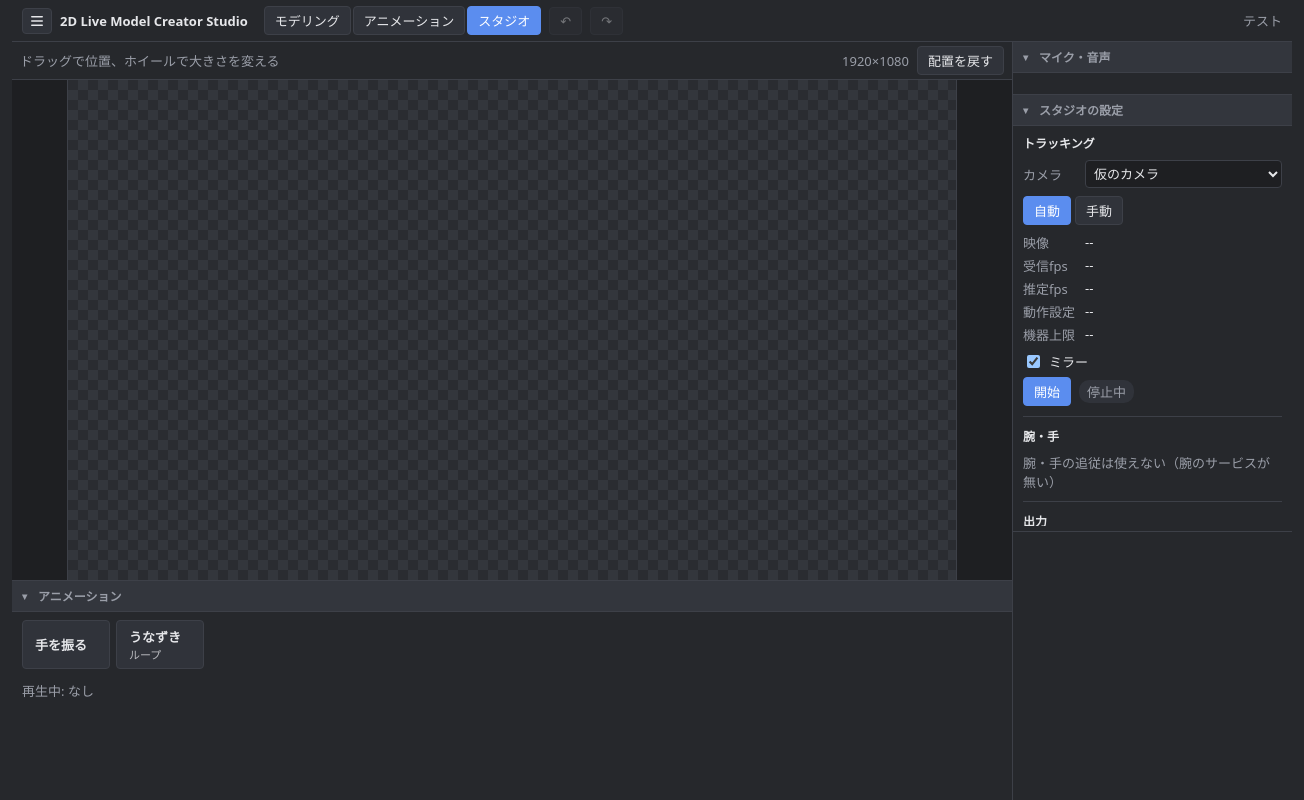
Test: スタジオの「アニメーション」パネル › 押すと再生し、もう一度押すとやめる（仮実装でも動く）
This screenshot has width=1304, height=800.
What coordinates should you click on to do the following:
click the button "手を振る"
I would click on:
 (66, 644)
Its box is [22, 620, 110, 669].
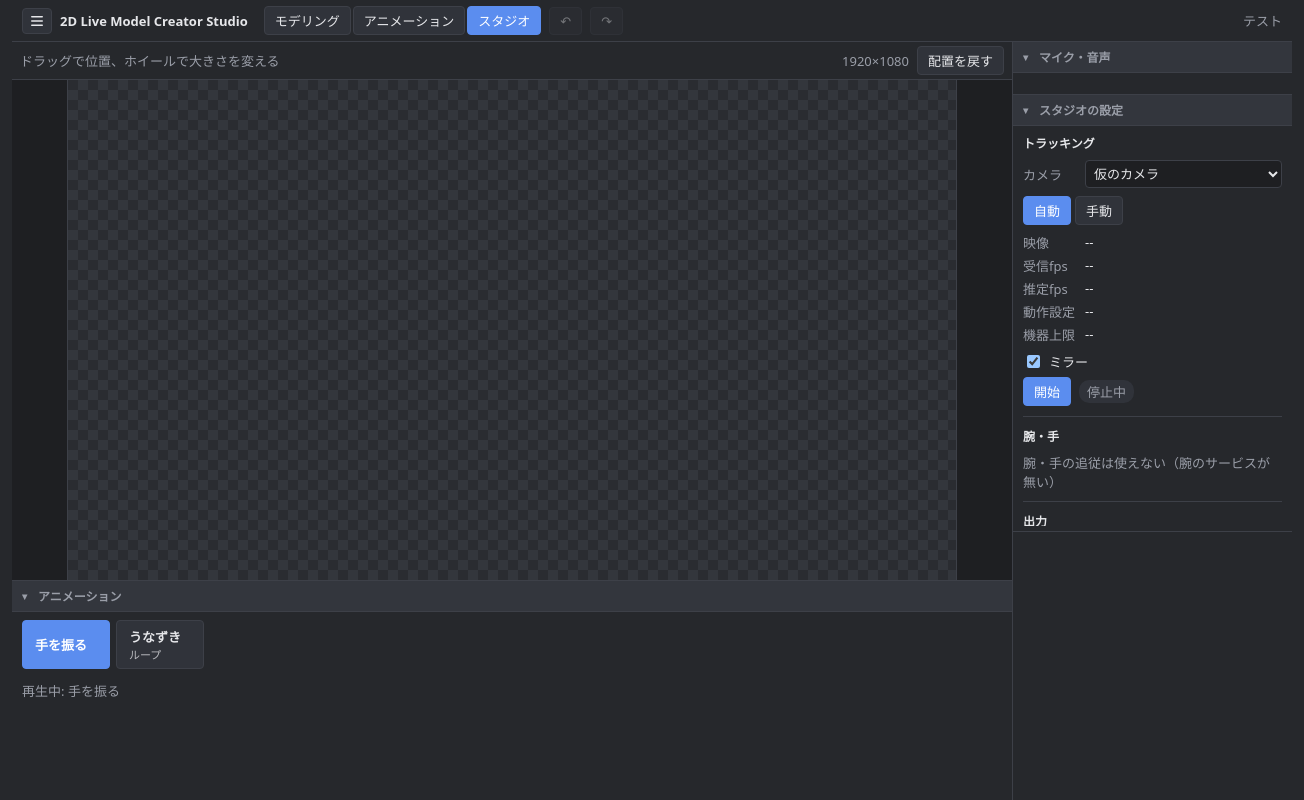
Expected: the text named "再生中のアニメーション" reads "再生中: 手を振る", [22, 682, 120, 700]
What coordinates should you click on to do the following:
click the button "手を振る"
I would click on:
 (66, 644)
Its box is [22, 620, 110, 669].
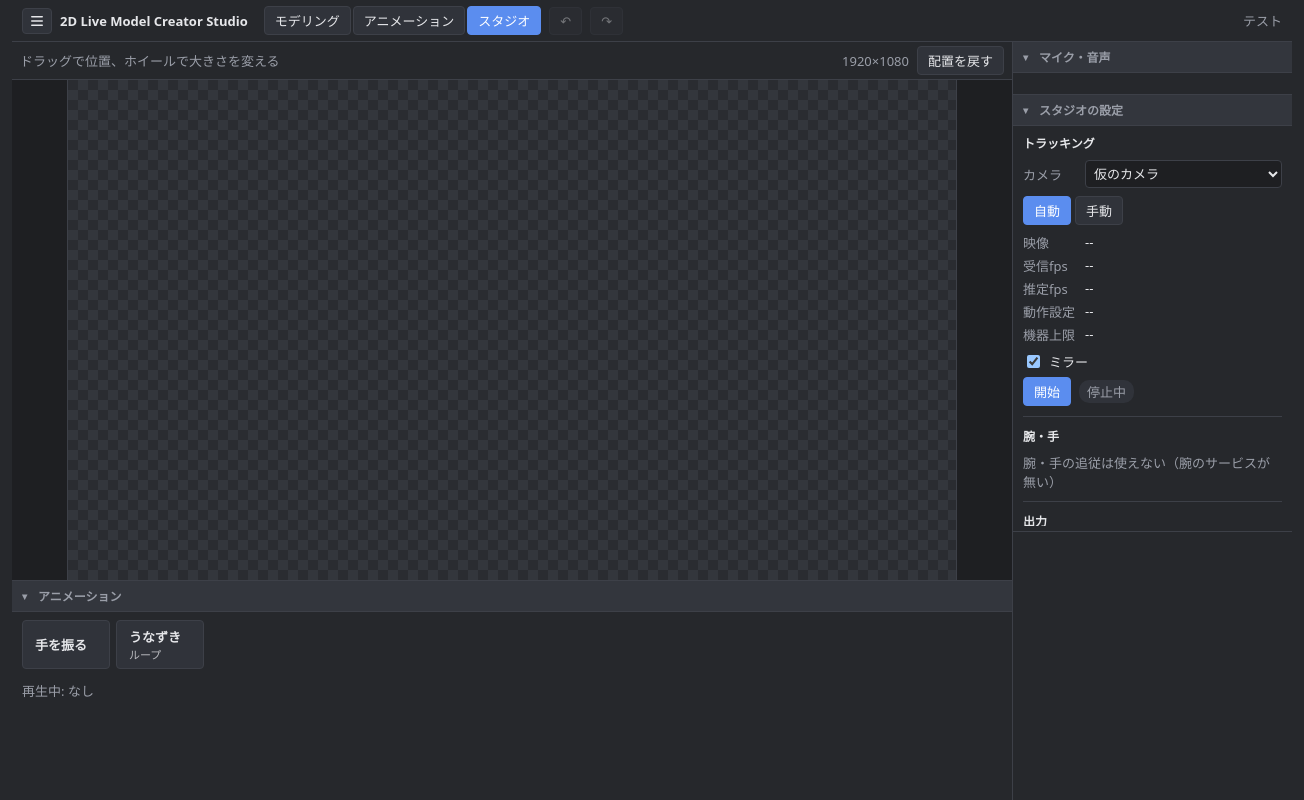
Expected: the text named "再生中のアニメーション" reads "再生中: なし", [22, 682, 94, 700]
